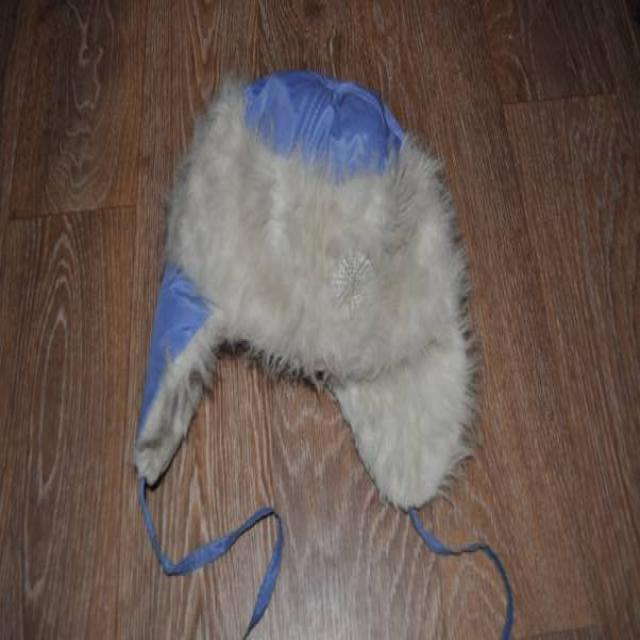Clothes -Biodegradable-: (132, 74, 464, 504)
